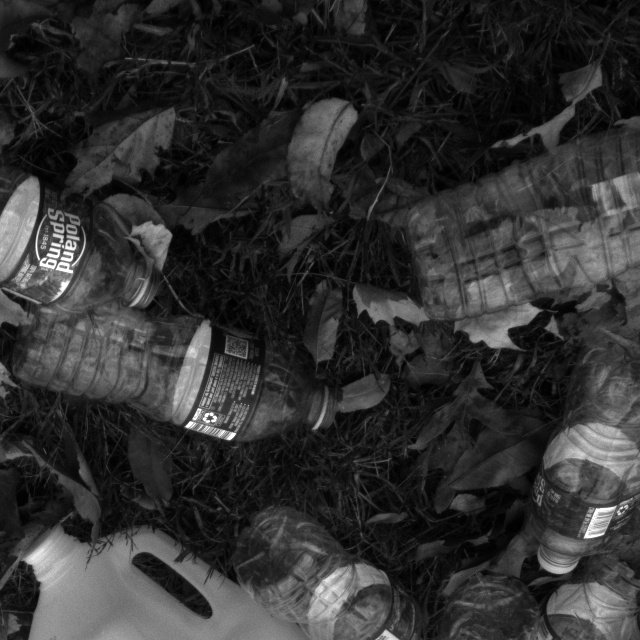bottle: (412, 114, 640, 332), (15, 296, 342, 448), (0, 104, 159, 318), (234, 500, 436, 640), (533, 330, 640, 585), (588, 478, 640, 640)
can: (11, 521, 358, 640)
